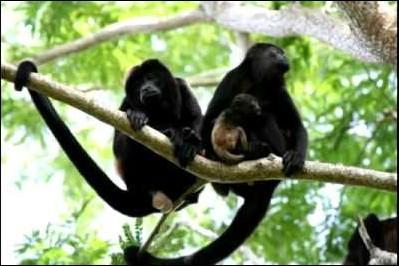monkey: (121, 44, 309, 183)
